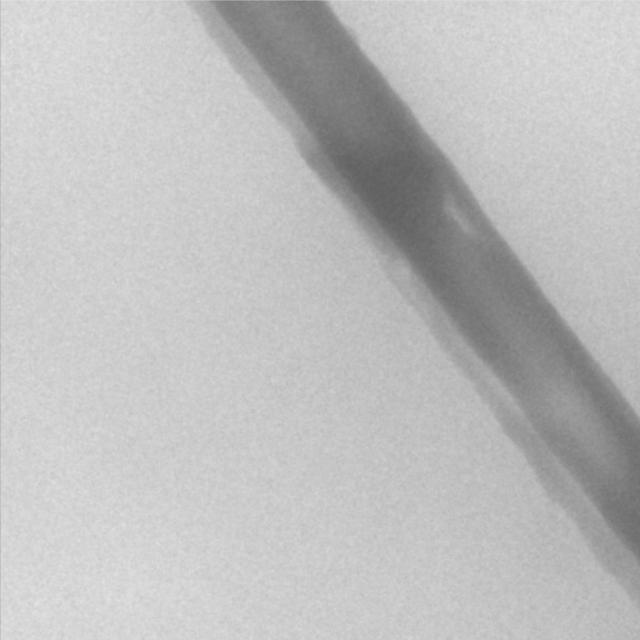unfused: (442, 196, 473, 232)
